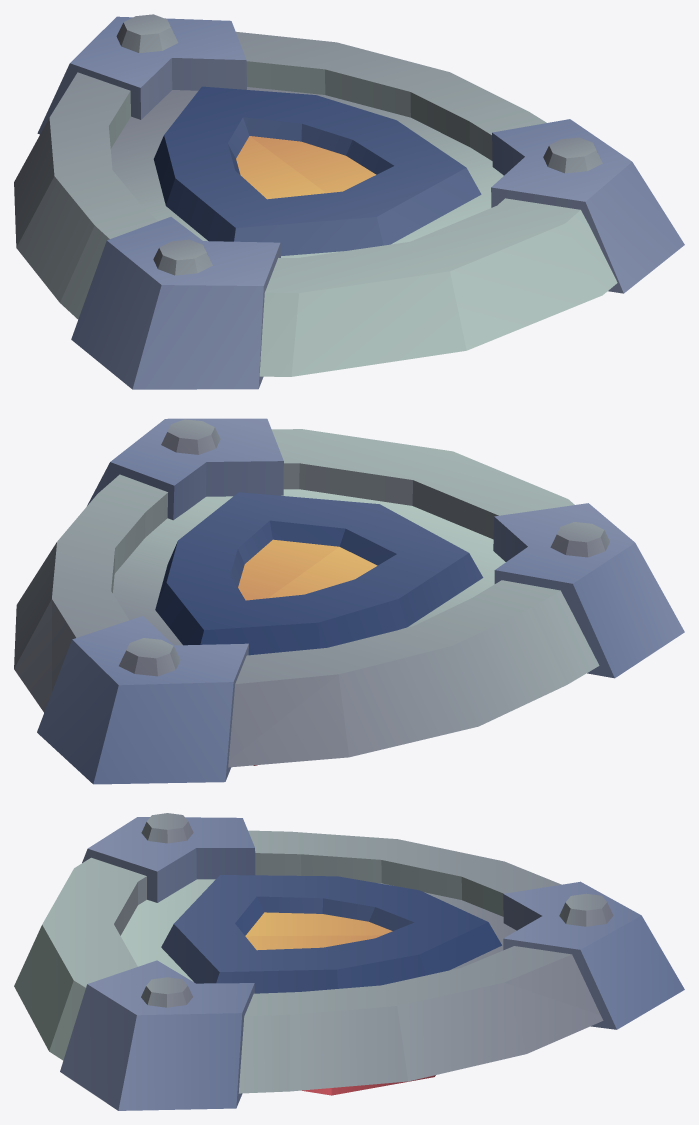
Rendered from shield.FBX.
The picture shows the model from 3 angles, top to bottom: view 1: azimuth 30°, elevation 25°; view 2: azimuth 150°, elevation 25°; view 3: azimuth 270°, elevation 25°; orthographic projection. The views are drawn at different scales.
Parts seen in each view (by area): view 1: shield; view 2: shield; view 3: shield.
Part boxes in pixels (x1,y1,x2,y2): shield: [14, 14, 684, 389]; shield: [14, 418, 684, 784]; shield: [14, 813, 684, 1110].
Size of the model in its own units: 38.28 by 13.44 by 44.85.
1 material, 1 textured.
